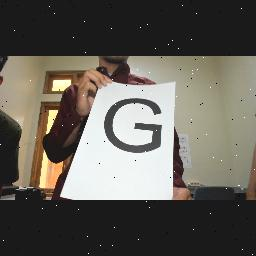g: (102, 96, 164, 156)
